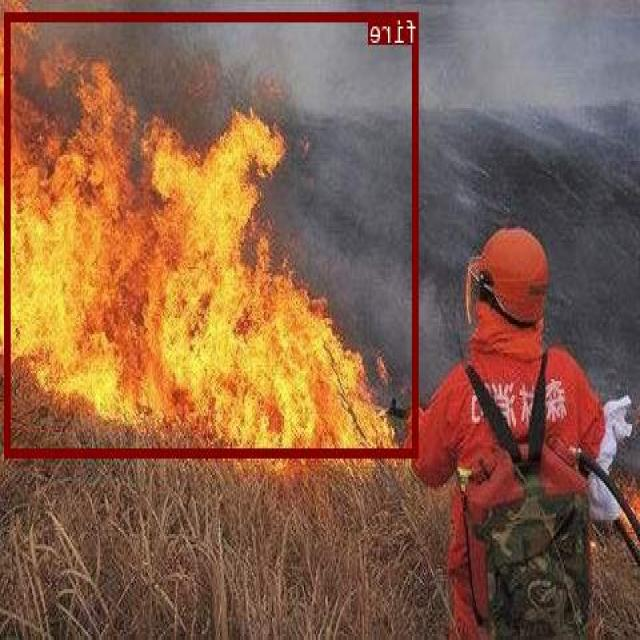fire: (6, 12, 420, 454)
